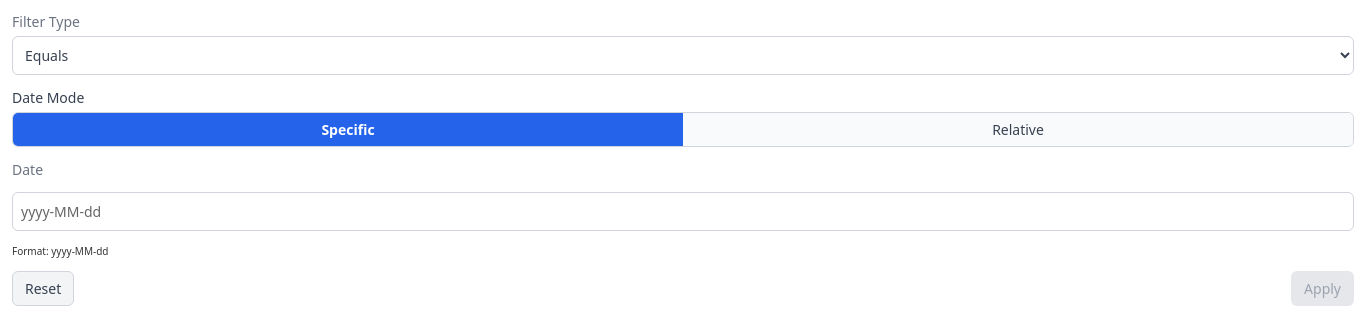
Test: DateFilter Integration Tests › State Management Integration › should maintain state consistency across mode changes
Expected: the element with test id "date-input" is shown, x1=12 y1=159 x2=1354 y2=259
# Switch to relative mode
Click the radio button "Relative" at (1018, 130), box x1=683 y1=113 x2=1353 y2=146
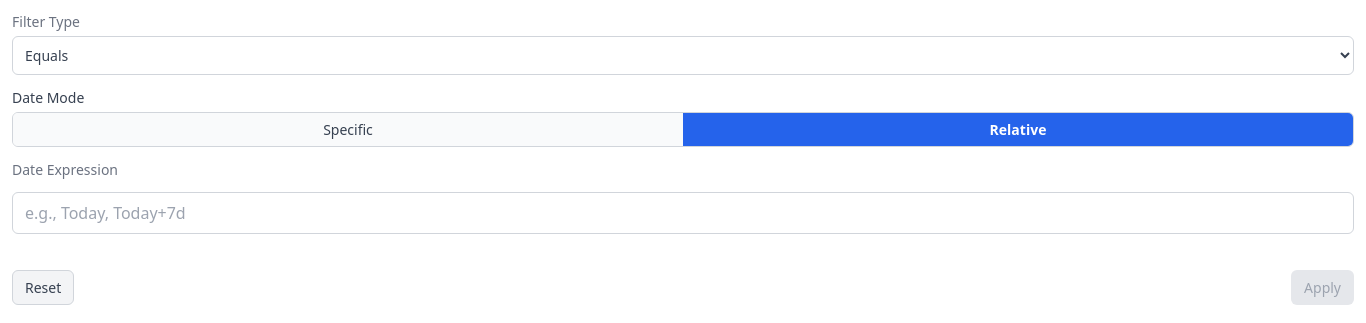
Expected: the element with test id "relative-input" is shown, x1=12 y1=159 x2=1354 y2=258
# Switch back to absolute mode
Click the radio button "Specific" at (348, 130), box x1=13 y1=113 x2=683 y2=146
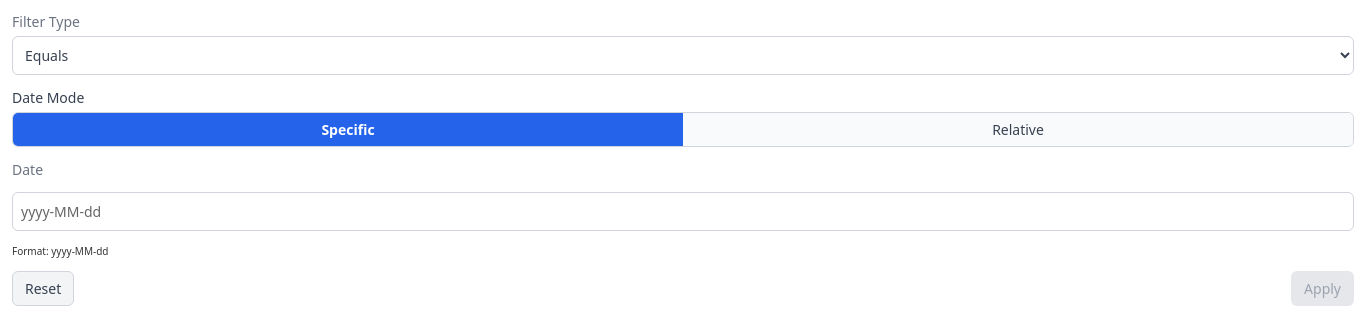
Expected: the element with test id "date-input" is shown, x1=12 y1=159 x2=1354 y2=259
